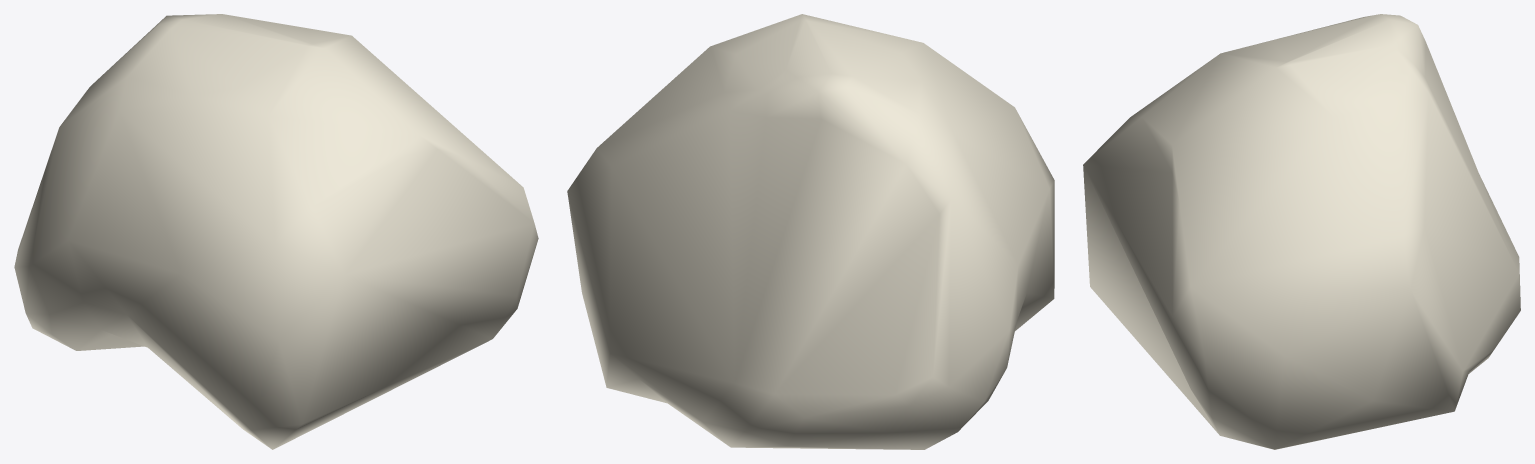
3 views of the same model, side by side, from view 1: azimuth 30°, elevation 25°; view 2: azimuth 150°, elevation 25°; view 3: azimuth 270°, elevation 25° (orthographic). The views are drawn at different scales.
Visible parts, largest first — view 1: ZA_c745bc67fc786731; view 2: ZA_c745bc67fc786731; view 3: ZA_c745bc67fc786731.
Part boxes in pixels (box(x1,y1,x2,y2)): ZA_c745bc67fc786731: box(14, 14, 538, 449); ZA_c745bc67fc786731: box(567, 14, 1054, 449); ZA_c745bc67fc786731: box(1083, 14, 1520, 449).
Size of the model in its own units: 0.0086 by 0.0066 by 0.00779.
